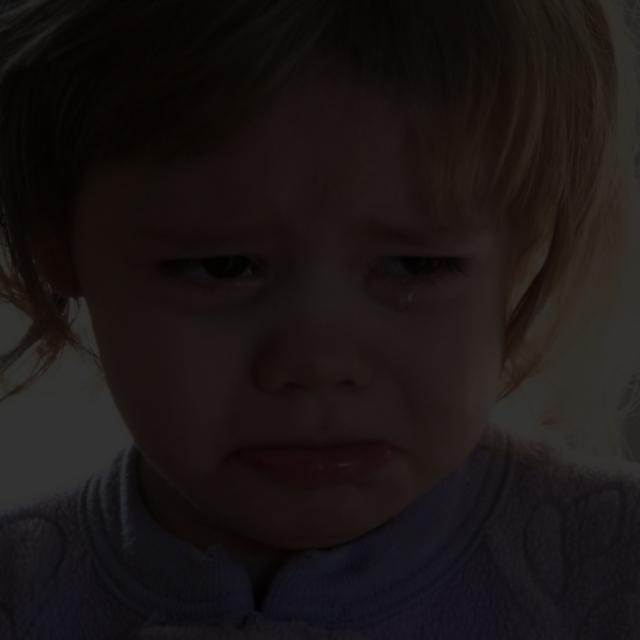Sad: (39, 67, 549, 629)
